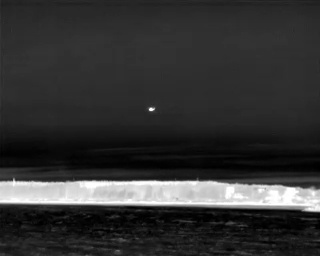HELICOPTER: (145, 103, 158, 117)
